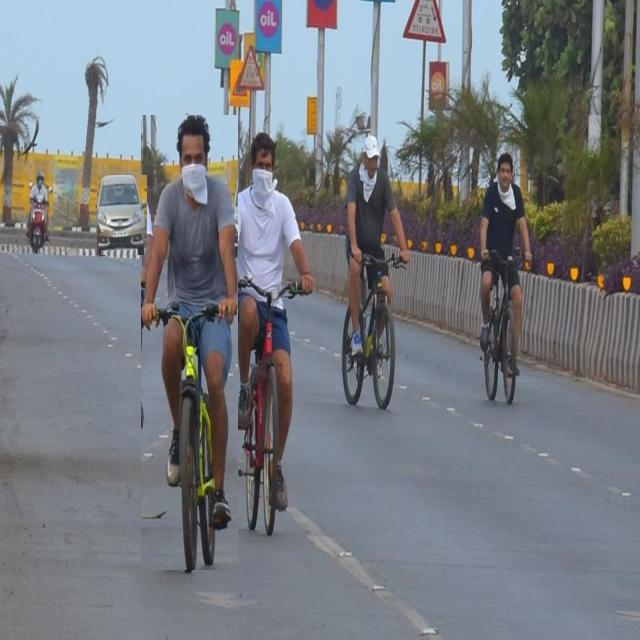bicycle: (141, 115, 238, 570), (226, 133, 314, 536), (341, 138, 410, 409), (480, 153, 531, 401)
car: (97, 175, 146, 255)
motorcycle: (28, 171, 48, 253)
